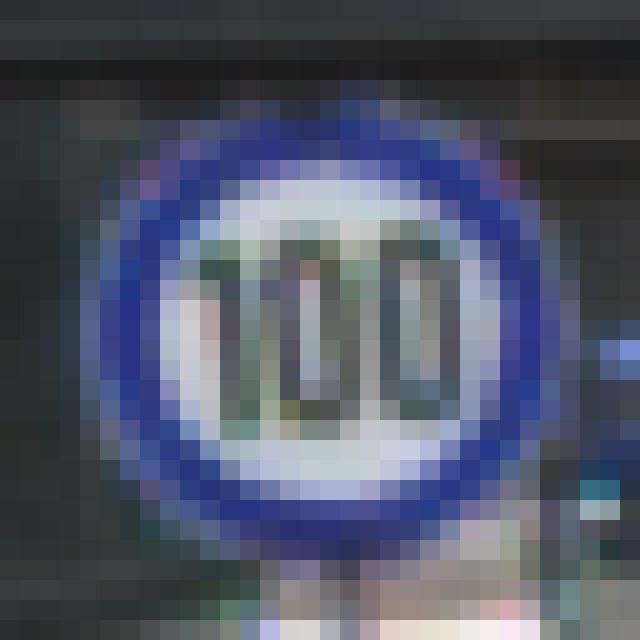SPEED LIMIT 100: (66, 92, 566, 554)
